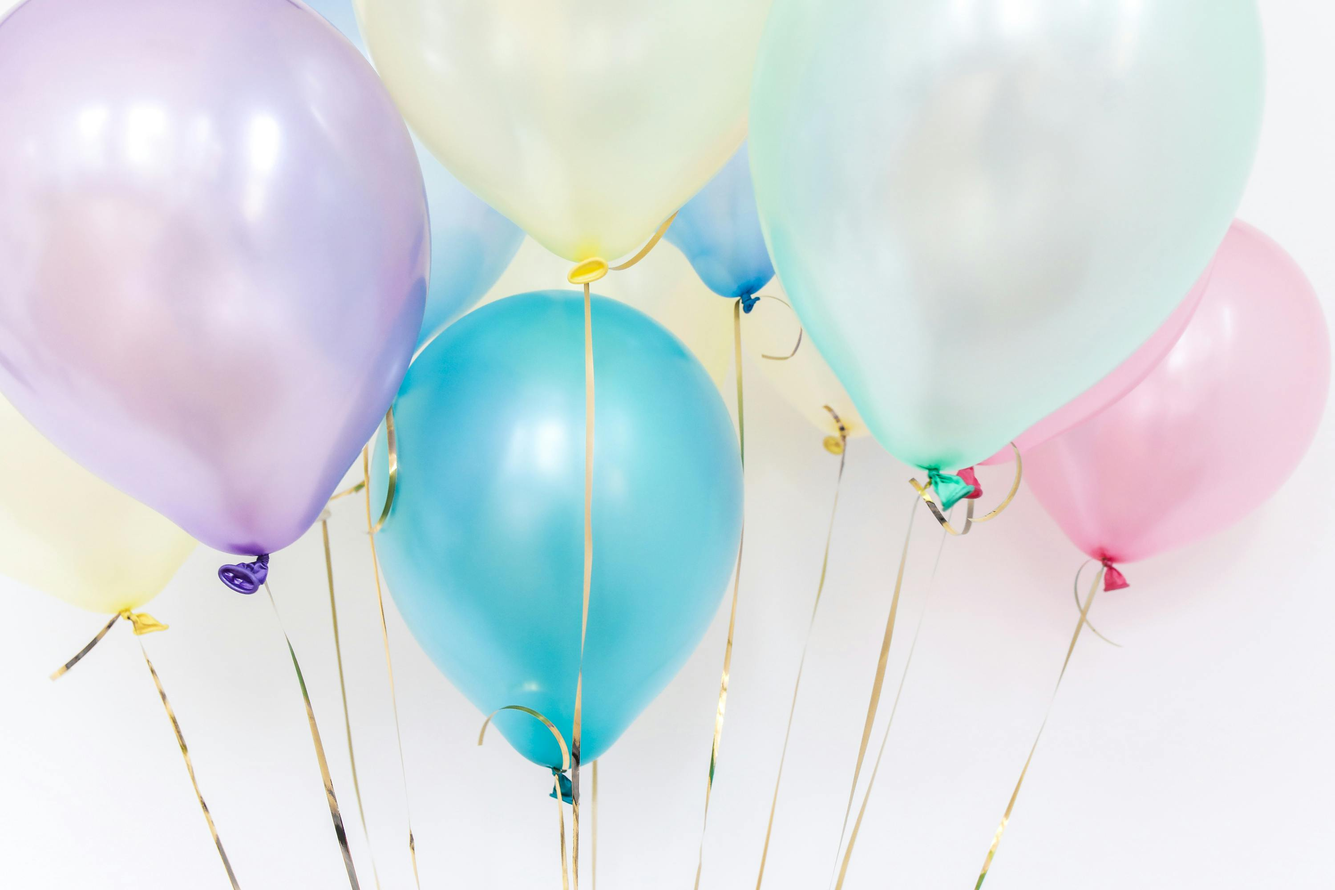balloon: (749, 0, 1260, 470), (0, 0, 430, 556), (376, 291, 741, 788), (356, 0, 765, 262), (1027, 224, 1330, 562), (303, 0, 524, 346), (0, 395, 197, 613), (665, 147, 775, 311)
